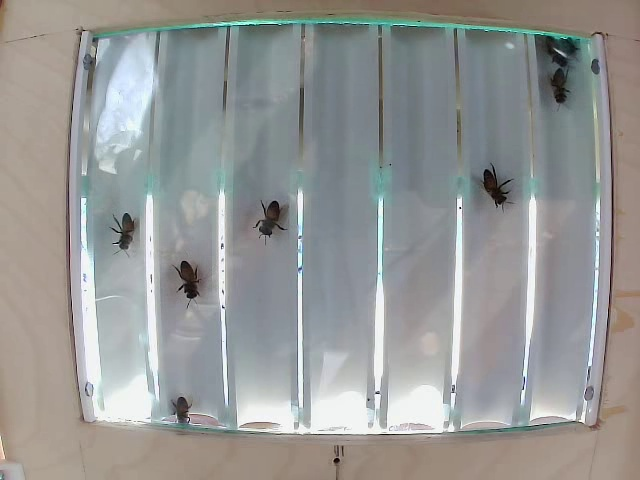bee: (485, 160, 525, 207), (164, 266, 202, 307), (175, 386, 213, 427), (111, 219, 149, 254), (258, 210, 293, 247), (553, 37, 584, 72), (548, 77, 577, 114)
